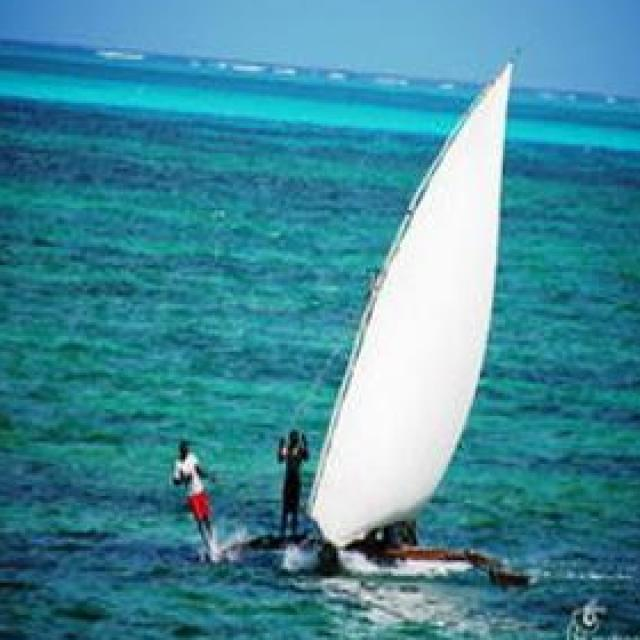sailboat: (213, 61, 565, 589)
